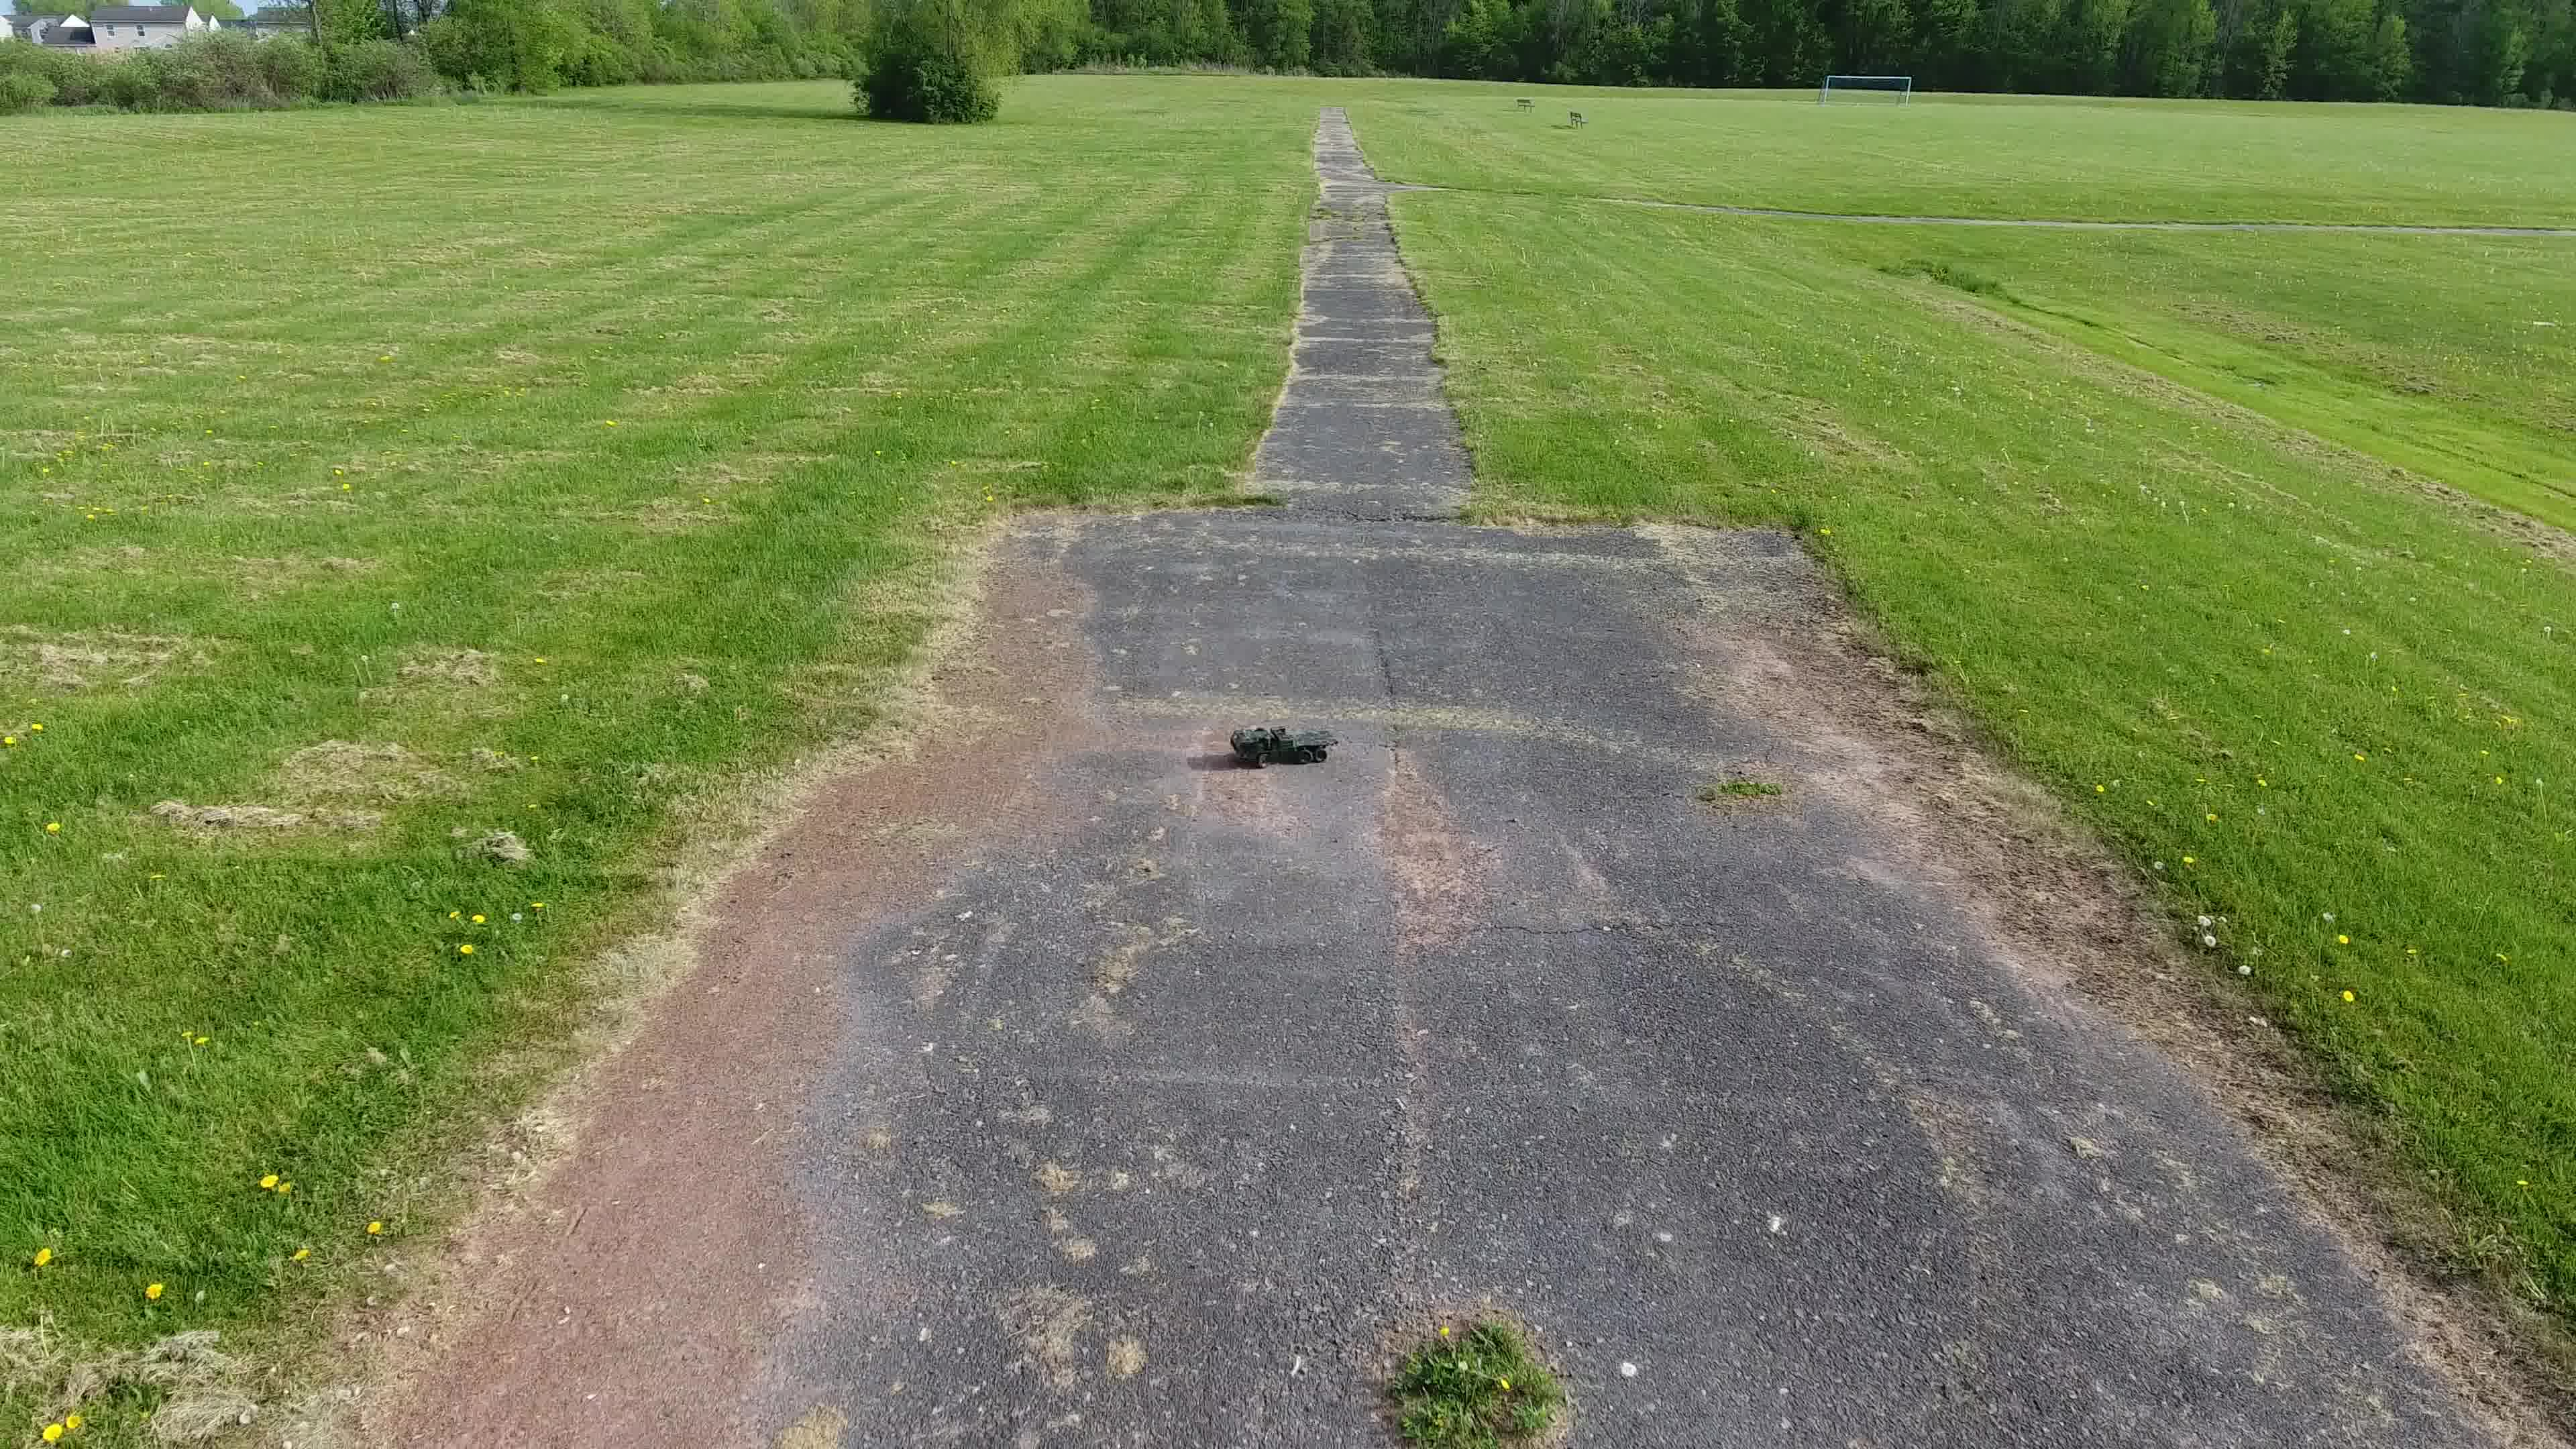transporter9_camo: (1230, 720, 1339, 770)
